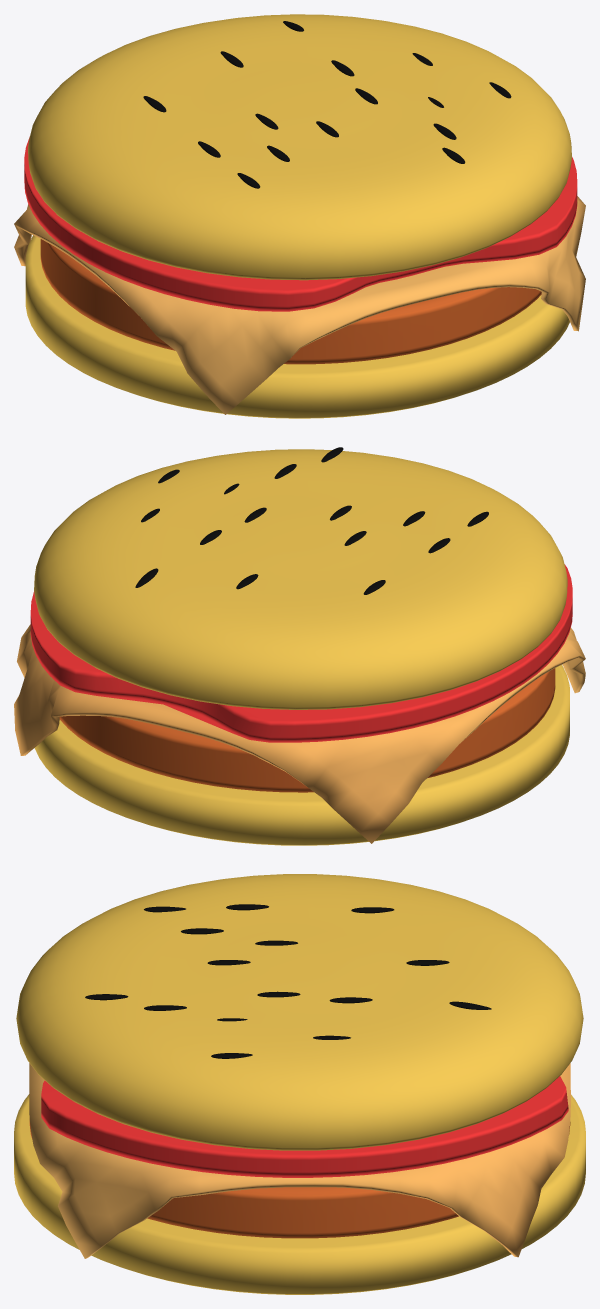
File: Burger_Cheese.fbx
3 views of the same model, one above another, from view 1: azimuth 30°, elevation 25°; view 2: azimuth 150°, elevation 25°; view 3: azimuth 270°, elevation 25° (orthographic). The views are drawn at different scales.
Visible parts, largest first — view 1: Bread Up, Bread Down, Cheese, Tomato, Meat, Seed; view 2: Bread Up, Bread Down, Cheese, Tomato, Meat, Seed; view 3: Bread Up, Bread Down, Cheese, Tomato, Meat, Seed.
Part boxes in pixels (x1,y1,x2,y2): Bread Up: [28, 14, 571, 280]; Bread Down: [25, 235, 569, 418]; Cheese: [14, 196, 585, 414]; Tomato: [24, 136, 577, 311]; Meat: [40, 239, 541, 364]; Seed: [143, 21, 511, 188]; Bread Up: [34, 449, 567, 709]; Bread Down: [34, 665, 569, 845]; Cheese: [14, 624, 585, 843]; Tomato: [30, 564, 572, 742]; Meat: [59, 668, 555, 792]; Seed: [135, 447, 488, 594]; Bread Up: [16, 874, 583, 1150]; Bread Down: [14, 1094, 585, 1294]; Cheese: [29, 1063, 570, 1258]; Tomato: [41, 1076, 568, 1177]; Meat: [29, 1120, 570, 1238]; Seed: [85, 904, 491, 1058].
Size of the model in its own units: 211 by 87.26 by 212.
